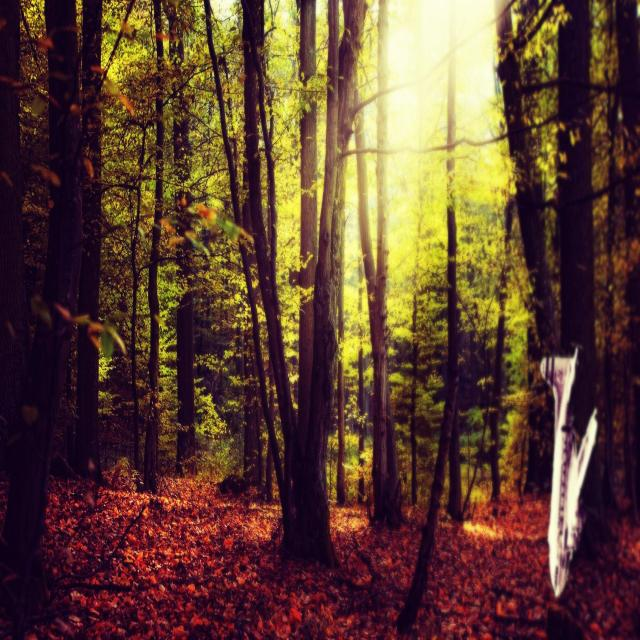airplane: (539, 346, 599, 598)
